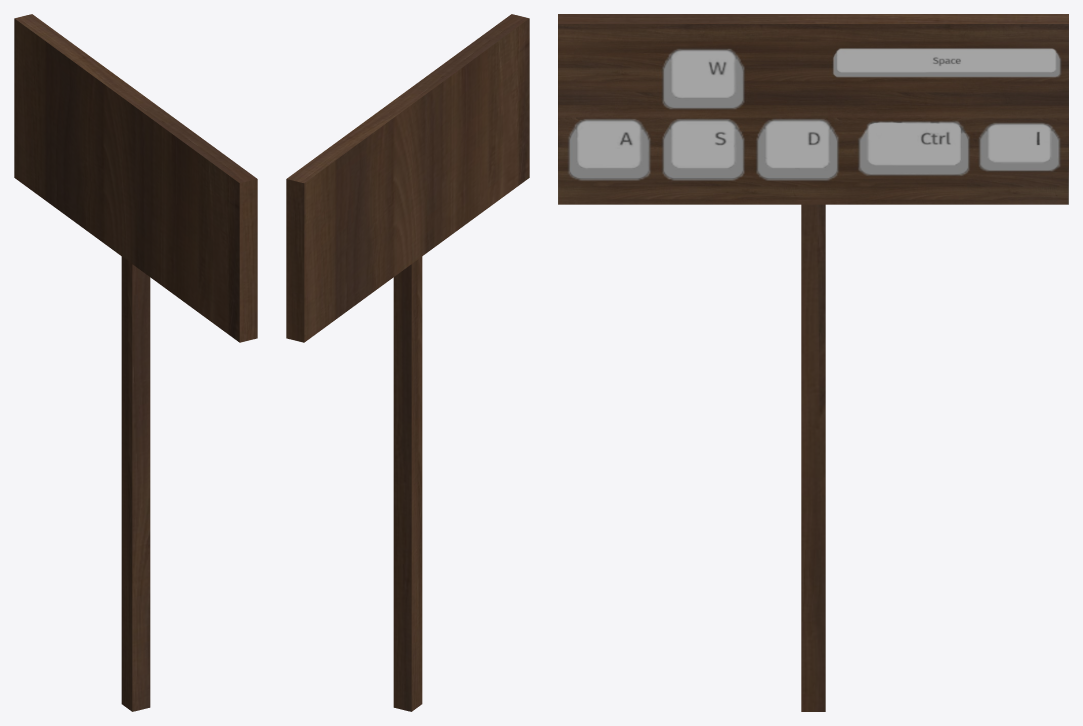
File: sign.obj
3 renders of one model, left to right at view 1: azimuth 30°, elevation 25°; view 2: azimuth 150°, elevation 25°; view 3: azimuth 270°, elevation 25°, orthographic. The views are drawn at different scales.
Parts seen in each view (by area): view 1: Cube.001; view 2: Cube.001; view 3: Cube.001.
Boxes of the visible parts, left/top/right/bottom form: Cube.001: left=14, top=14, right=257, bottom=711; Cube.001: left=286, top=14, right=529, bottom=711; Cube.001: left=558, top=14, right=1068, bottom=711.
Bounding box in the file's own units: 0.0269 × 0.871 × 0.586.
Materials: 2 (2 with a texture image).
